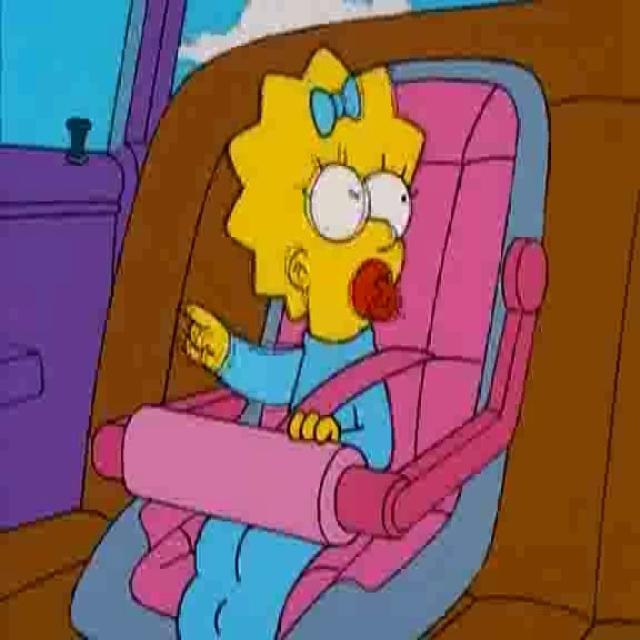Maggie Simpson: (220, 44, 428, 350)
